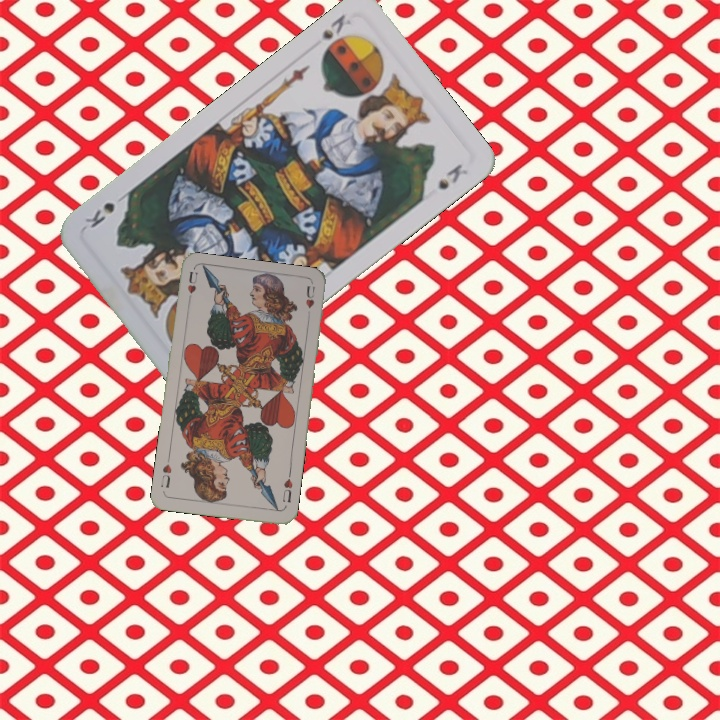HU: (183, 268, 200, 307), (279, 475, 295, 505)
SK: (317, 10, 355, 59)
